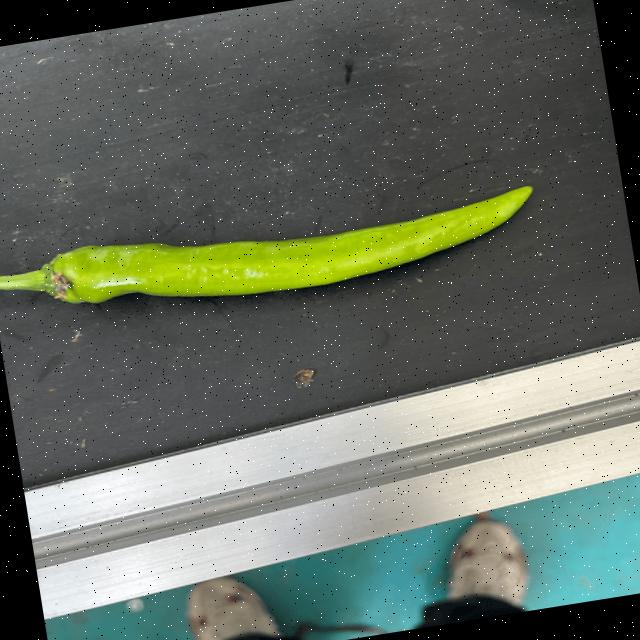chili: (39, 185, 538, 305)
